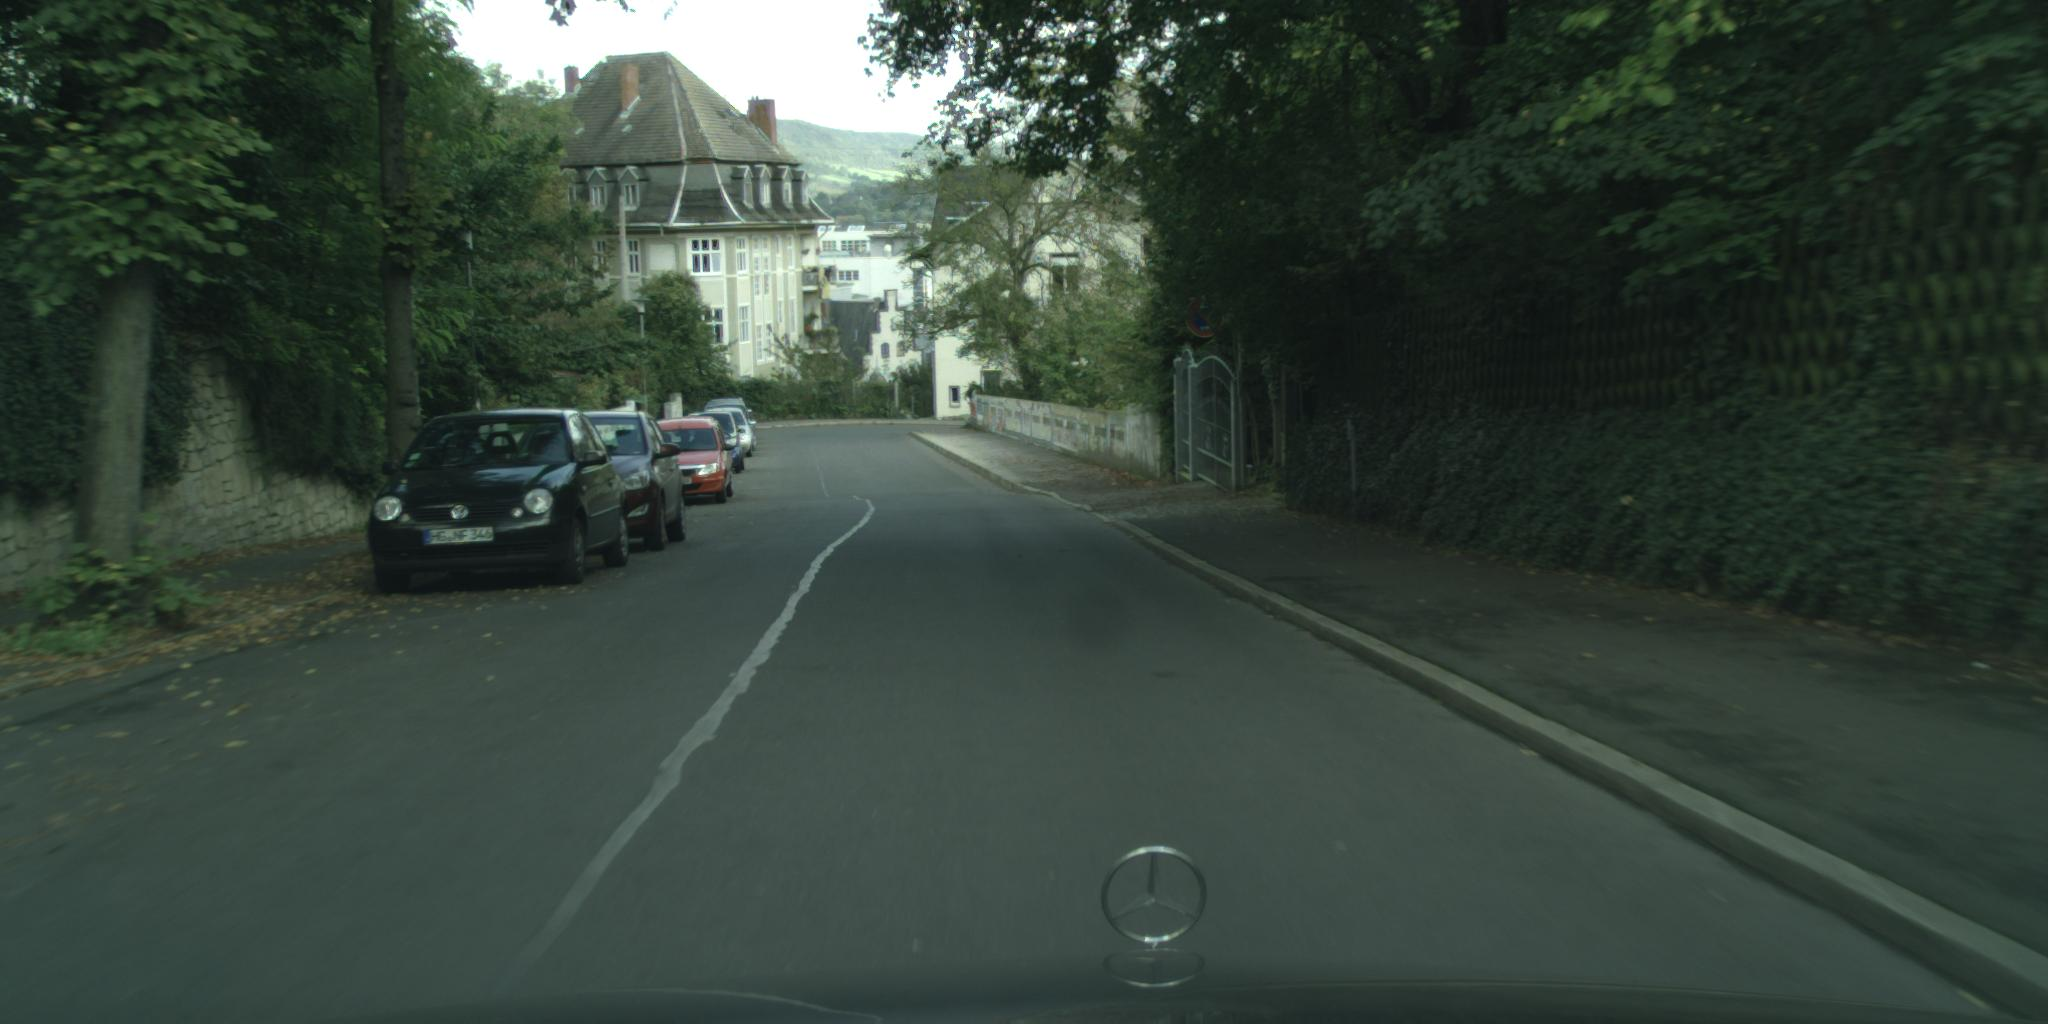car: (368, 408, 632, 596), (573, 411, 690, 552), (652, 415, 738, 505), (686, 411, 747, 475), (707, 397, 759, 451), (705, 408, 756, 458)
